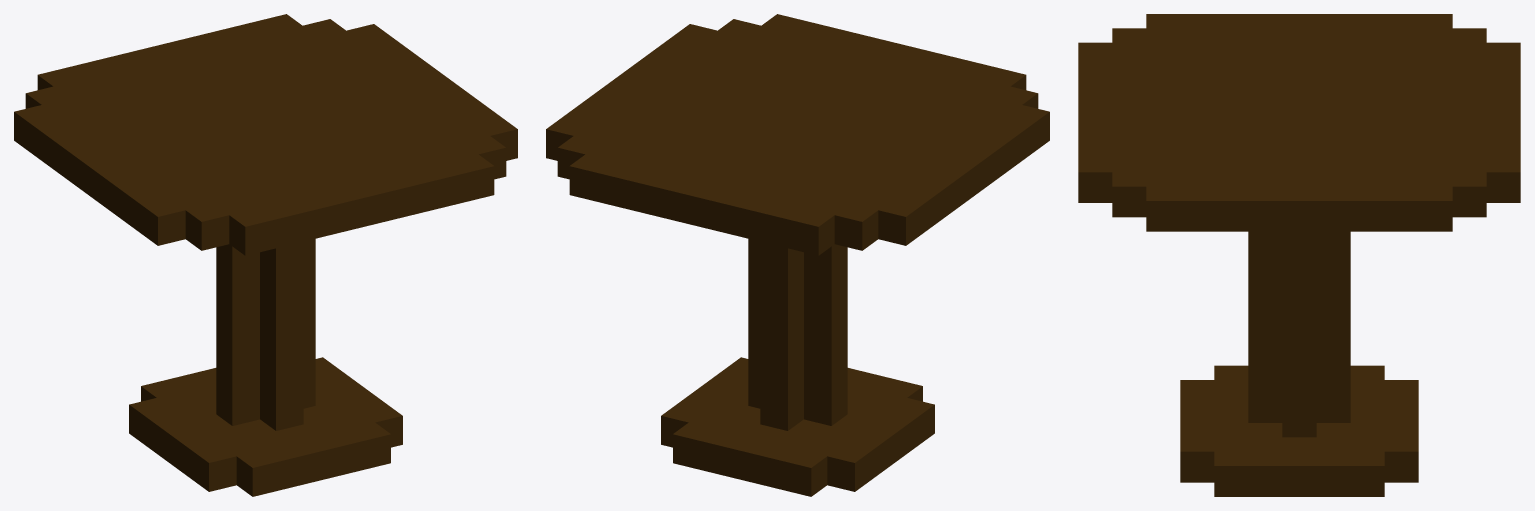
File: Mesa de Comida.obj
3 renders of one model, left to right at view 1: azimuth 30°, elevation 25°; view 2: azimuth 150°, elevation 25°; view 3: azimuth 270°, elevation 25°, orthographic. The views are drawn at different scales.
Size of the model in its own units: 1.3 by 1.1 by 1.3.
Materials: 1 (1 with a texture image).
